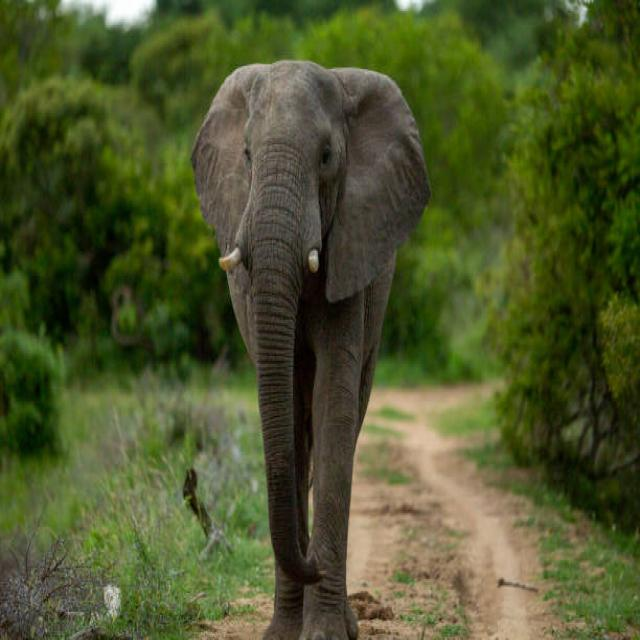Elephant: (179, 47, 441, 640)
